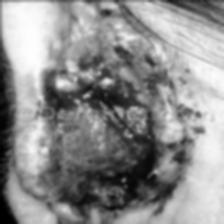Potentially Malignant Skin Tumors: (18, 5, 190, 222)
